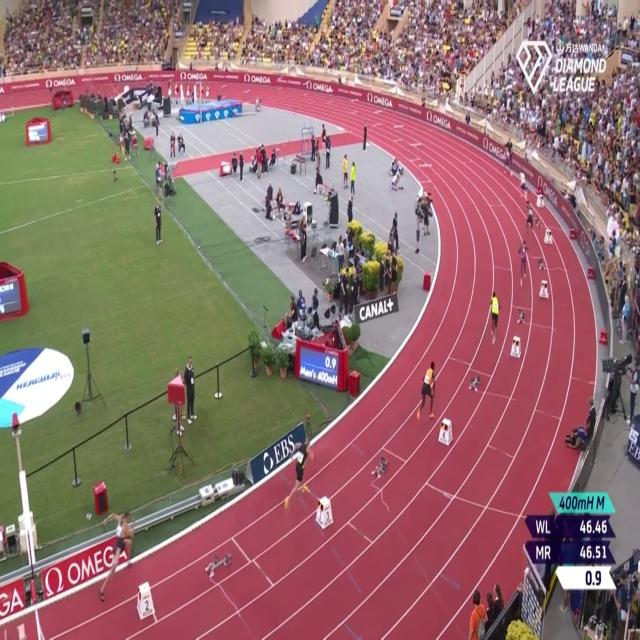athlete: (100, 504, 136, 606), (282, 428, 317, 511), (416, 358, 438, 424), (488, 284, 504, 346), (516, 238, 529, 289), (500, 137, 514, 175), (525, 200, 536, 240), (516, 167, 529, 199)
hurdle: (416, 162, 435, 188), (369, 104, 383, 131), (407, 140, 423, 163), (321, 87, 335, 112), (218, 79, 232, 104), (393, 122, 408, 142), (300, 75, 312, 99), (242, 83, 254, 106), (350, 95, 362, 118), (274, 72, 284, 94)
